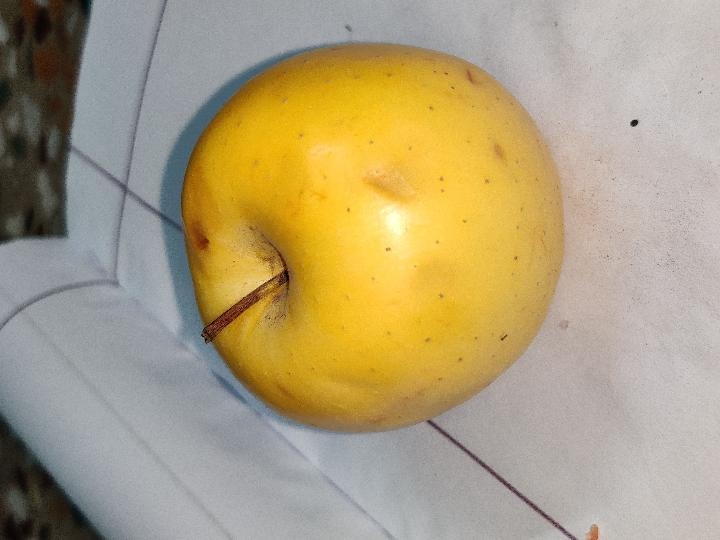apple: (181, 44, 564, 432)
